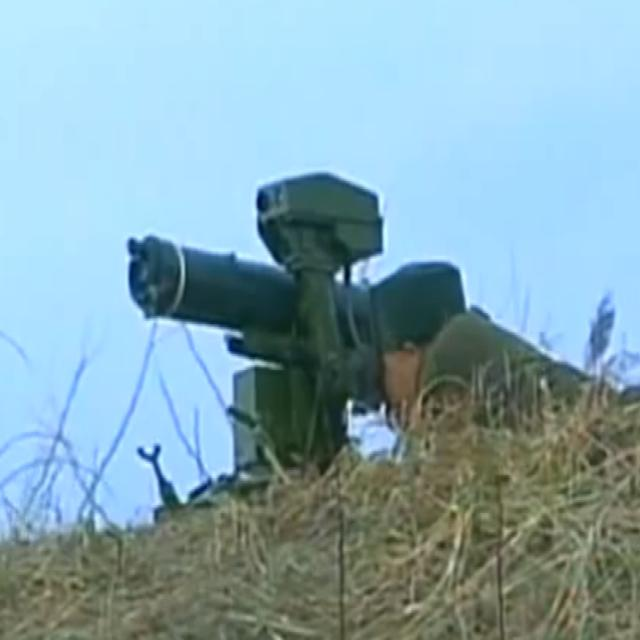bazooka: (118, 149, 419, 383)
